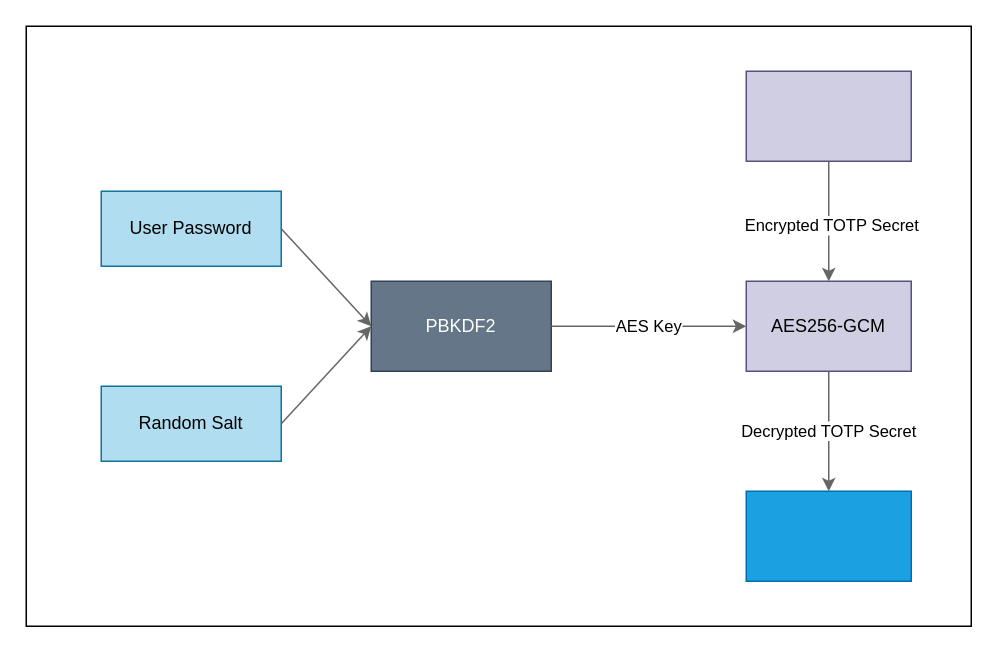
Image size: 998x653. Some labels were removed from this diagram. The centre of each missing label's shape, as x and y in pixels:
On-chip Flash: [828,115]
TOTP Code: [828,535]
